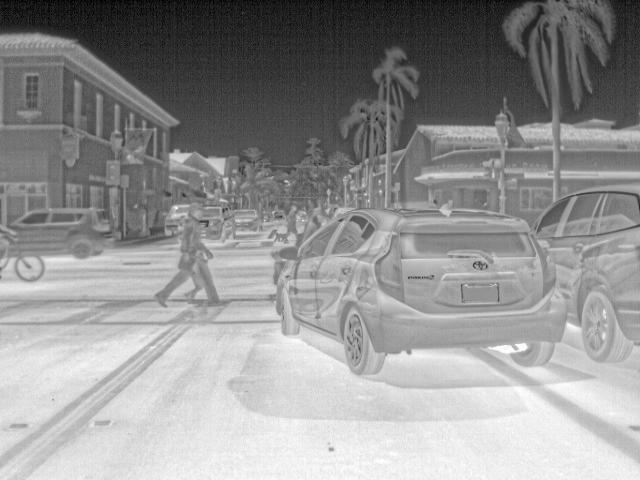car: (271, 199, 566, 375), (537, 179, 637, 362), (1, 208, 110, 257), (200, 205, 234, 239), (163, 201, 194, 236), (227, 207, 262, 233)
person: (153, 207, 225, 308), (282, 205, 302, 240)
